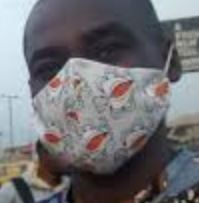with_facemask: (32, 82, 166, 174)
